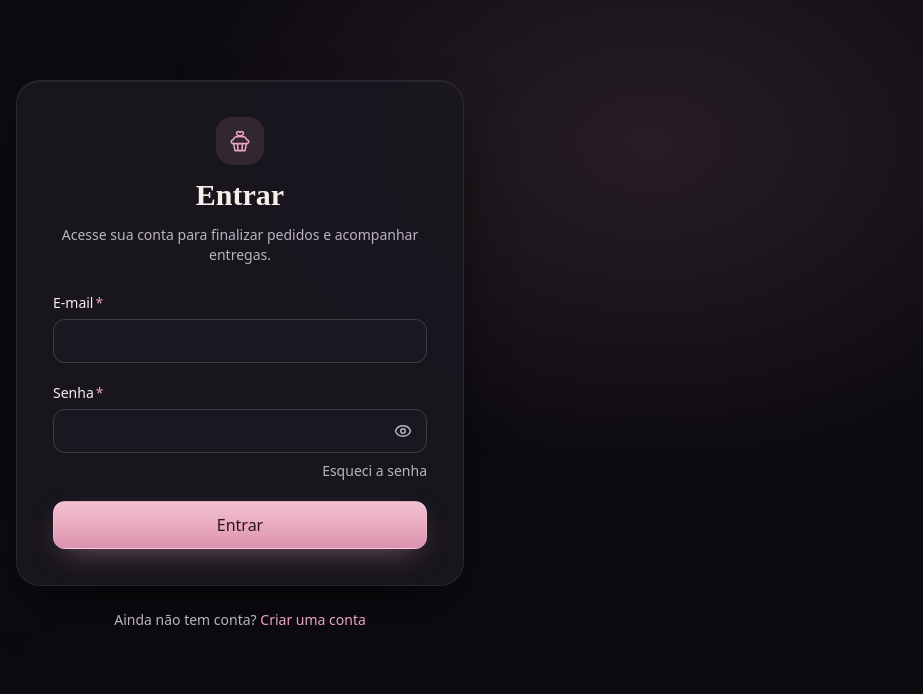
LoginPage › valida campos obrigatórios sem chamar o Supabase
The image size is (923, 694).
Click the button "Entrar": (240, 525) [53, 501, 427, 549]
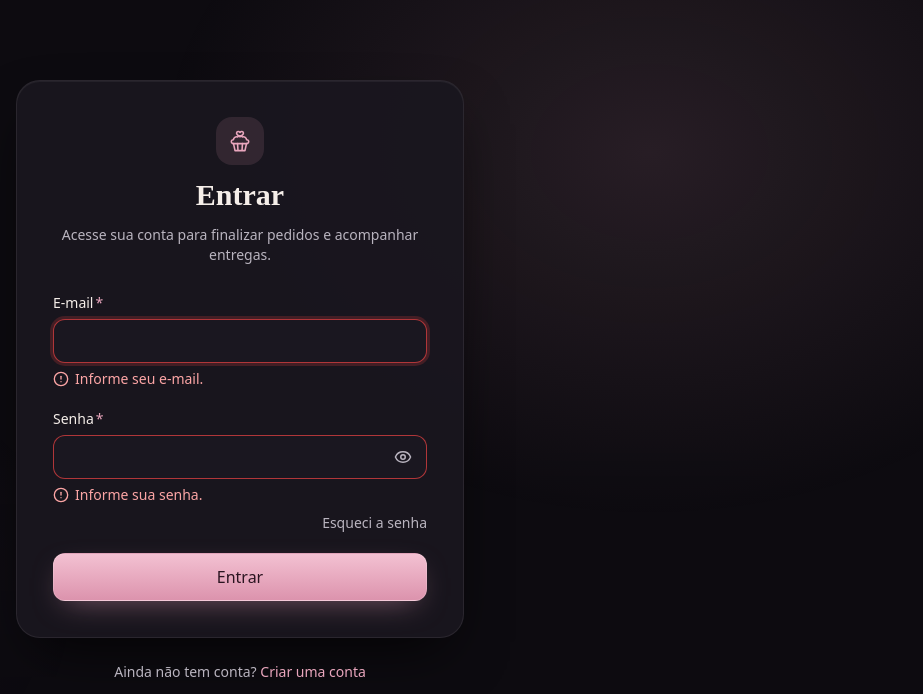
Expected: the text "Informe seu e-mail." is shown, [75, 369, 203, 389]
Expected: the text "Informe sua senha." is shown, [75, 485, 202, 505]
